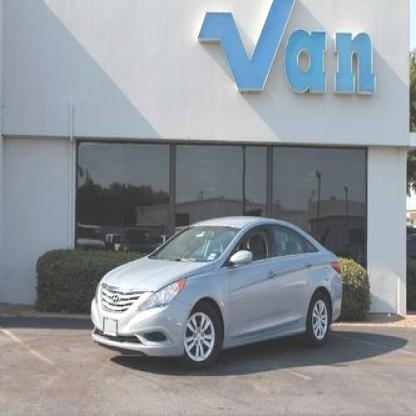Vehicle: (90, 215, 344, 373)
